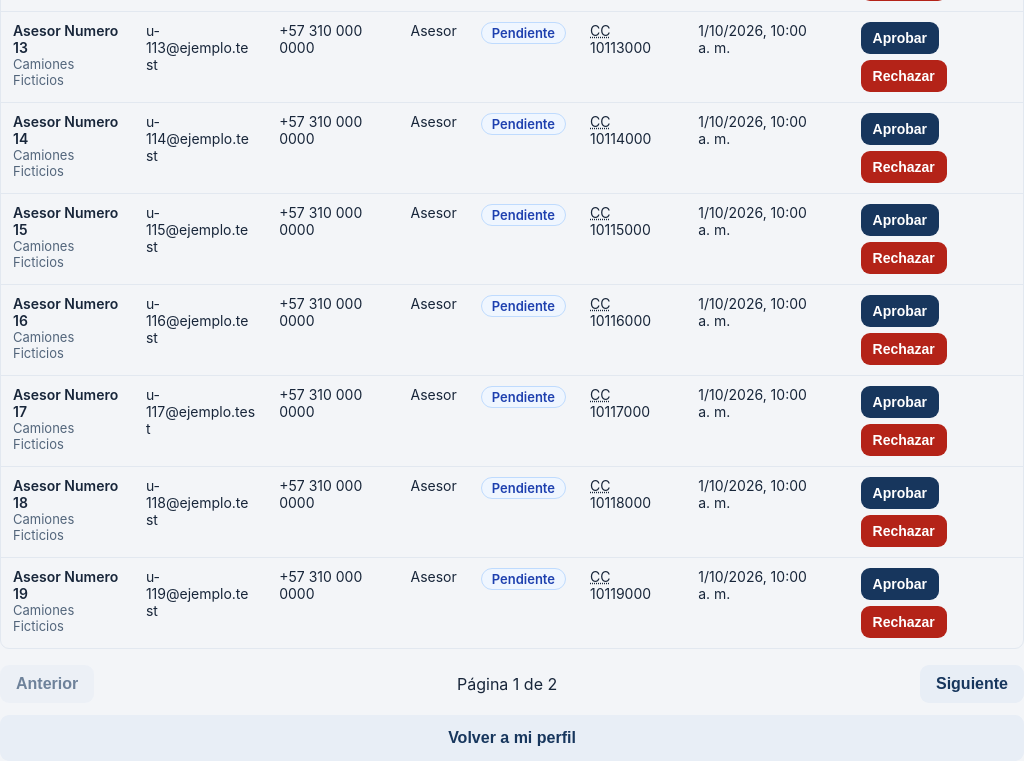
Panel de administración: lista y filtros › CA-048-10 la paginación pide la página siguiente
The width and height of the screenshot is (1024, 761).
(page scrolled)
Expected: the text "Página 1 de 2" is shown, [457, 674, 557, 694]
Click the button "Siguiente": [972, 684] box [920, 665, 1023, 703]
(page scrolled)
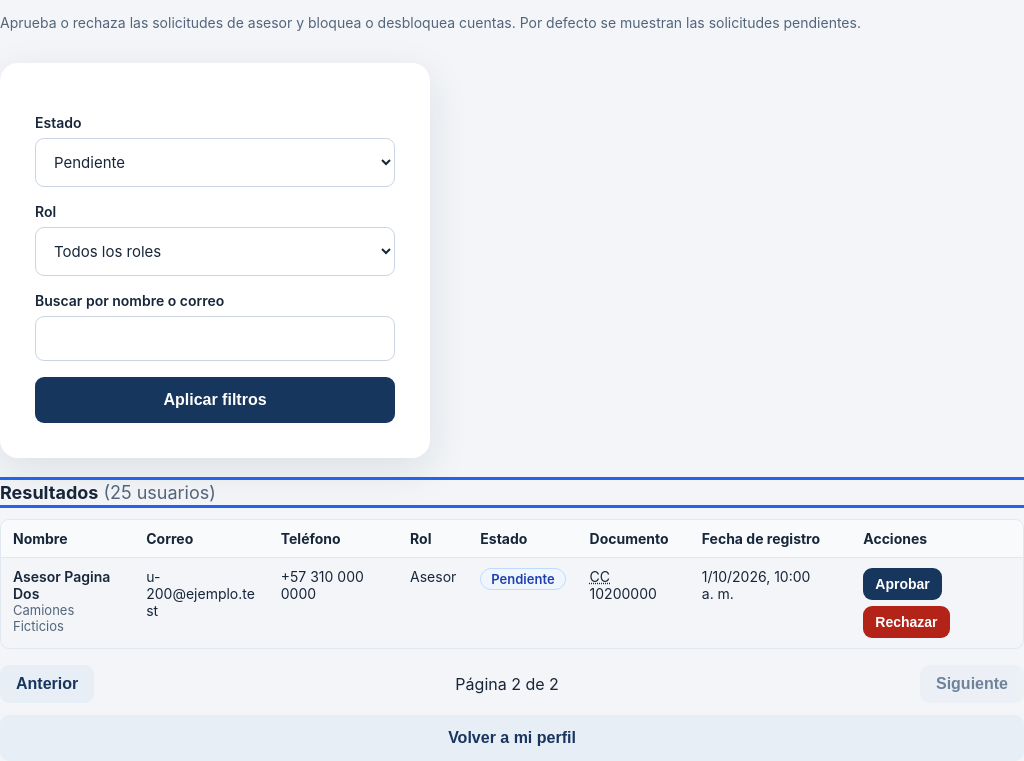
Expected: the text "Página 2 de 2" is shown, [455, 674, 559, 694]
